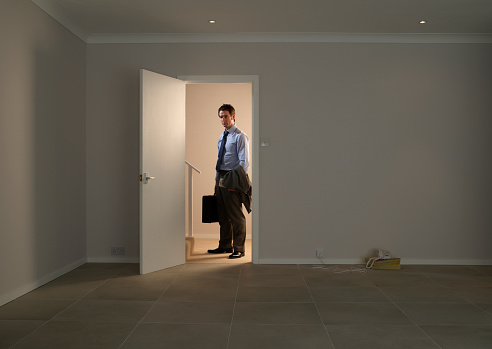em pe: (202, 106, 247, 260)
